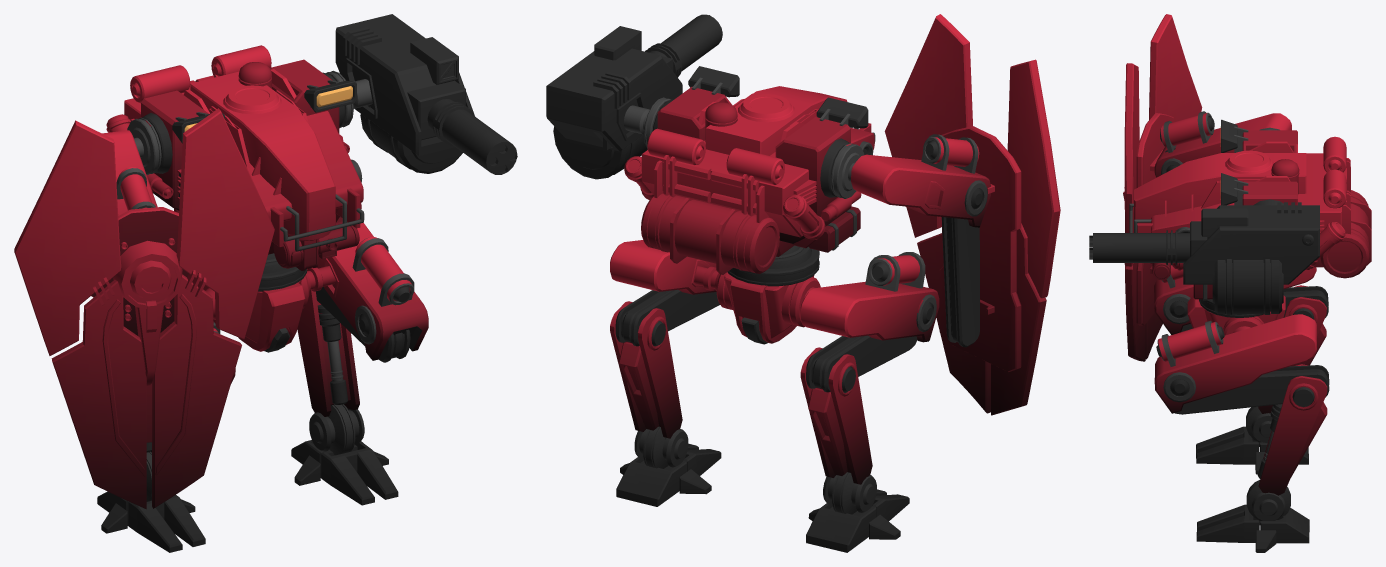
File: mech_shield.glb
3 renders of one model, left to right at view 1: azimuth 30°, elevation 25°; view 2: azimuth 150°, elevation 25°; view 3: azimuth 270°, elevation 25°, orthographic. The views are drawn at different scales.
Visible parts, largest first — view 1: Shield, Battle_mech_03_torso_poly, polySurface1, Battle_mech_03_L_hips_poly, Battle_mech_03_L_foot_poly, Battle_mech_03_L_leg_poly, Mech, Battle_mech_03_R_foot_poly, Battle_mech_03_L_hips_poly.001, Battle_mech_03_L_knee_poly, Battle_mech_03_torso_weapon_poly; view 2: Battle_mech_03_torso_poly, Shield, polySurface1, Battle_mech_03_R_hips_poly, Battle_mech_03_L_hips_poly.001, Mech, Battle_mech_03_L_leg_poly, Battle_mech_03_R_leg_poly, Battle_mech_03_L_foot_poly, Battle_mech_03_R_foot_poly, Battle_mech_03_L_knee_poly.001, Battle_mech_03_L_hips_poly (+3 smaller); view 3: Battle_mech_03_torso_poly, polySurface1, Shield, Battle_mech_03_L_hips_poly, Battle_mech_03_L_leg_poly, Battle_mech_03_L_foot_poly, Battle_mech_03_L_hips_poly.001, Battle_mech_03_L_knee_poly, Battle_mech_03_R_foot_poly, Battle_mech_03_R_hips_poly, Mech, Battle_mech_03_R_leg_poly (+2 smaller).
Part boxes in pixels (bbox=[...]): Shield: bbox=[14, 108, 274, 509]; Battle_mech_03_torso_poly: bbox=[106, 45, 372, 270]; polySurface1: bbox=[335, 14, 517, 174]; Battle_mech_03_L_hips_poly: bbox=[317, 222, 428, 360]; Battle_mech_03_L_foot_poly: bbox=[291, 404, 398, 505]; Battle_mech_03_L_leg_poly: bbox=[297, 269, 359, 416]; Mech: bbox=[203, 258, 335, 352]; Battle_mech_03_R_foot_poly: bbox=[97, 451, 205, 552]; Battle_mech_03_L_hips_poly.001: bbox=[102, 130, 157, 215]; Battle_mech_03_L_knee_poly: bbox=[315, 286, 410, 362]; Battle_mech_03_torso_weapon_poly: bbox=[238, 62, 271, 88]; Battle_mech_03_torso_poly: bbox=[623, 66, 875, 274]; Shield: bbox=[884, 14, 1060, 415]; polySurface1: bbox=[546, 14, 722, 179]; Battle_mech_03_R_hips_poly: bbox=[800, 252, 939, 342]; Battle_mech_03_L_hips_poly.001: bbox=[851, 134, 990, 227]; Mech: bbox=[694, 247, 820, 344]; Battle_mech_03_L_leg_poly: bbox=[610, 301, 682, 438]; Battle_mech_03_R_leg_poly: bbox=[800, 347, 872, 484]; Battle_mech_03_L_foot_poly: bbox=[616, 426, 721, 506]; Battle_mech_03_R_foot_poly: bbox=[806, 472, 909, 552]; Battle_mech_03_L_knee_poly.001: bbox=[941, 166, 979, 347]; Battle_mech_03_L_hips_poly: bbox=[610, 240, 716, 294]; Battle_mech_03_torso_poly: bbox=[1129, 119, 1371, 300]; polySurface1: bbox=[1089, 202, 1319, 314]; Shield: bbox=[1123, 14, 1202, 361]; Battle_mech_03_L_hips_poly: bbox=[1154, 314, 1317, 413]; Battle_mech_03_L_leg_poly: bbox=[1257, 364, 1327, 495]; Battle_mech_03_L_foot_poly: bbox=[1196, 480, 1309, 552]; Battle_mech_03_L_hips_poly.001: bbox=[1154, 111, 1291, 177]; Battle_mech_03_L_knee_poly: bbox=[1174, 365, 1329, 414]; Battle_mech_03_R_foot_poly: bbox=[1196, 406, 1308, 474]; Battle_mech_03_R_hips_poly: bbox=[1154, 265, 1316, 334]; Mech: bbox=[1187, 295, 1285, 335]; Battle_mech_03_R_leg_poly: bbox=[1258, 285, 1326, 413].
Size of what is drawn, in the model's own units: 7.87 by 7.5 by 4.91.
Materials: 1 (1 with a texture image).
